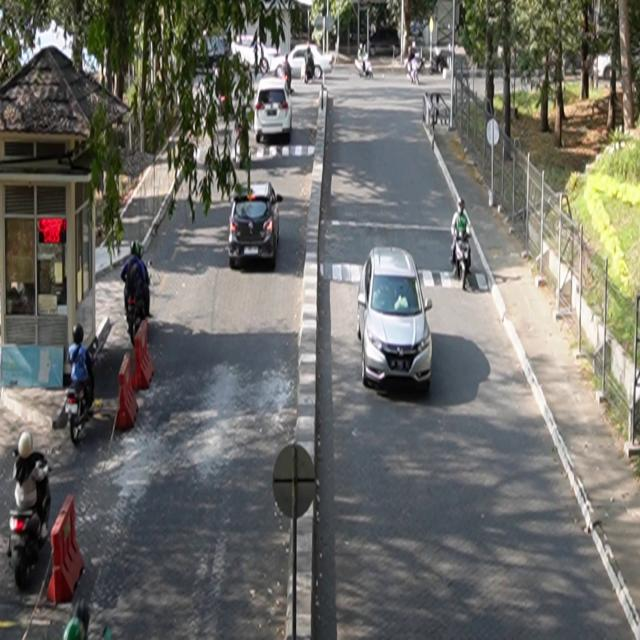car: (357, 246, 434, 393), (229, 182, 284, 270), (254, 78, 293, 145)
